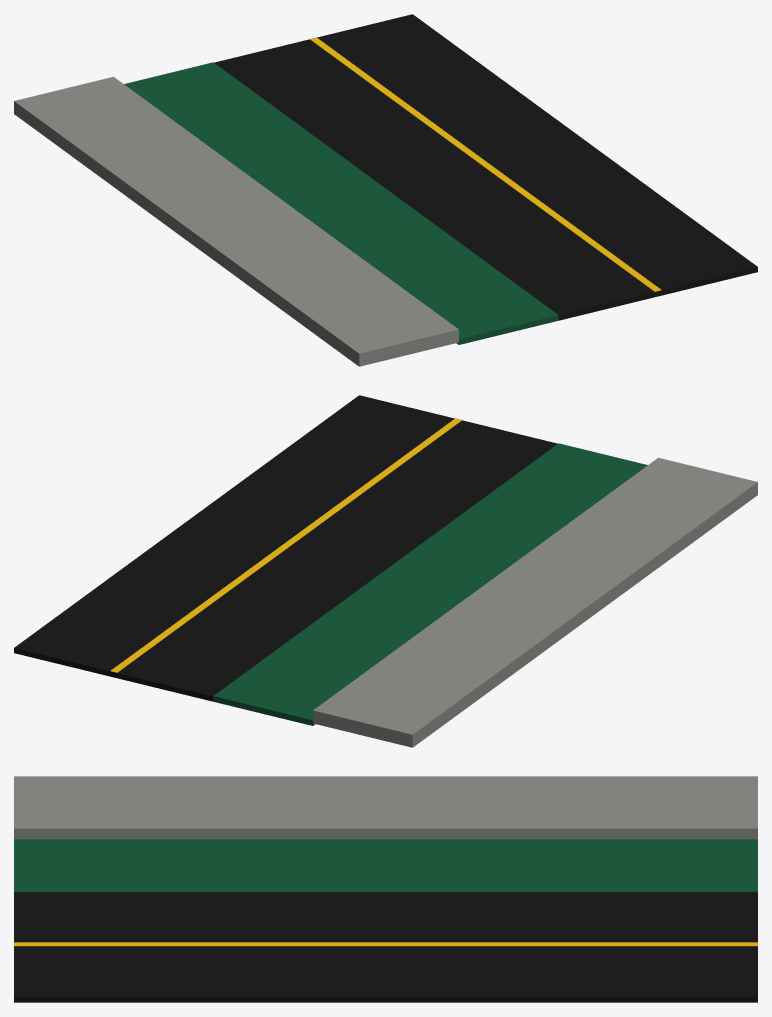
Rendered from pista.obj.
The picture shows the model from 3 angles, top to bottom: view 1: azimuth 30°, elevation 25°; view 2: azimuth 150°, elevation 25°; view 3: azimuth 270°, elevation 25°; orthographic projection. The views are drawn at different scales.
Parts seen in each view (by area): view 1: Calle_Vehicular, Banqueta_Peatonal, Pista_Ciclovia, Linea_Central_Amarilla; view 2: Calle_Vehicular, Banqueta_Peatonal, Pista_Ciclovia, Linea_Central_Amarilla; view 3: Calle_Vehicular, Banqueta_Peatonal, Pista_Ciclovia, Linea_Central_Amarilla.
Boxes of the visible parts, x1,y1,x2,y2 form: Calle_Vehicular: (214,14,757,320); Banqueta_Peatonal: (14,76,458,366); Pista_Ciclovia: (124,62,558,344); Linea_Central_Amarilla: (310,37,661,291); Calle_Vehicular: (14,395,557,701); Banqueta_Peatonal: (313,457,757,747); Pista_Ciclovia: (213,443,647,725); Linea_Central_Amarilla: (110,418,461,672); Calle_Vehicular: (14,892,757,1002); Banqueta_Peatonal: (14,776,757,839); Pista_Ciclovia: (14,839,757,892); Linea_Central_Amarilla: (14,942,757,946).
Size of the model in its own units: 8 by 0.3 by 12.
